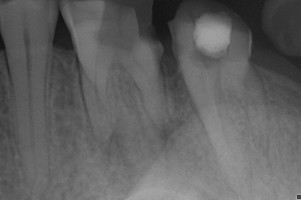Furcation Involvement: (160, 117, 185, 141)
